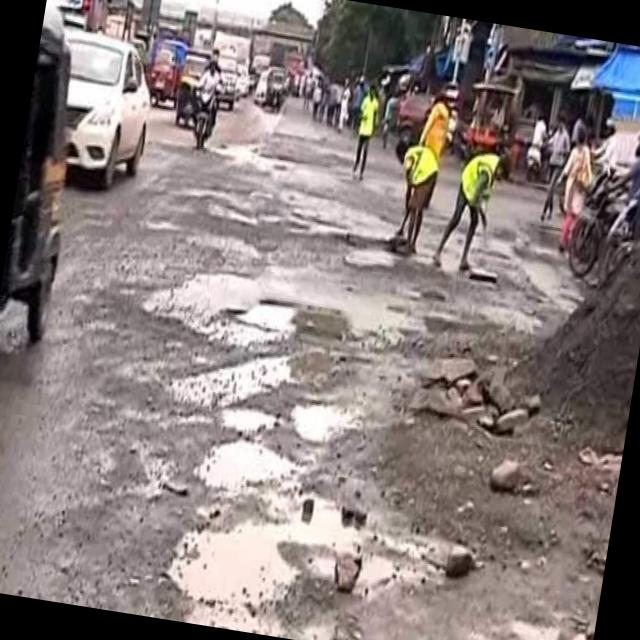Potholes: (97, 221, 426, 640), (450, 234, 508, 316), (252, 144, 318, 199)
